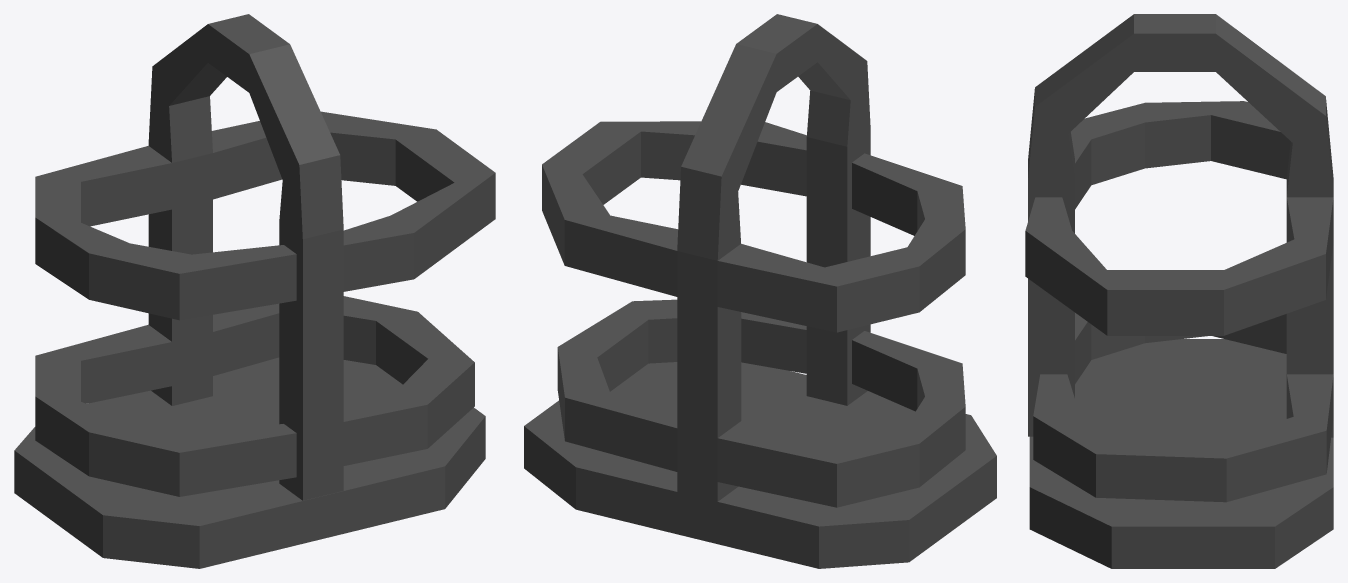
Rendered from lamba.obj.
The picture shows the model from 3 angles, left to right: view 1: azimuth 30°, elevation 25°; view 2: azimuth 150°, elevation 25°; view 3: azimuth 270°, elevation 25°; orthographic projection.
Visible parts, largest first — view 1: cube; view 2: cube; view 3: cube.
Part boxes in pixels (left/top/right/bottom): cube: left=14, top=14, right=495, bottom=568; cube: left=524, top=14, right=996, bottom=568; cube: left=1025, top=14, right=1333, bottom=568.
Size of the model in its own units: 0.2422 by 0.2635 by 0.1648.
